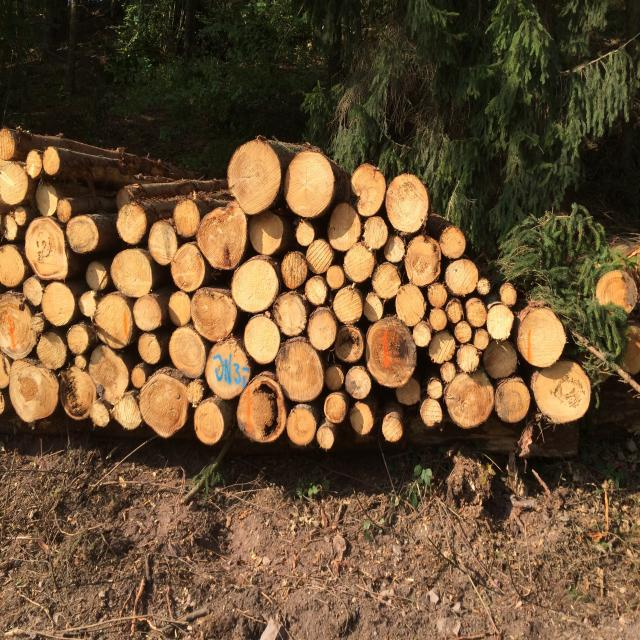wood-log: (225, 143, 281, 216), (364, 316, 416, 387), (532, 362, 590, 425), (196, 205, 249, 272), (274, 337, 324, 402), (284, 154, 334, 219), (139, 374, 189, 439), (205, 334, 253, 399), (6, 358, 54, 421), (516, 309, 566, 369), (23, 218, 68, 281), (385, 174, 430, 236), (445, 371, 493, 428), (0, 294, 40, 362), (231, 258, 280, 313), (191, 286, 239, 340), (235, 384, 278, 444), (94, 292, 135, 348), (90, 343, 131, 398), (110, 249, 154, 299), (168, 326, 206, 378), (598, 269, 640, 315), (170, 244, 208, 294), (246, 313, 284, 363), (405, 235, 442, 285), (352, 163, 386, 216), (328, 202, 364, 251), (250, 210, 286, 254), (494, 377, 529, 422), (273, 292, 308, 336), (42, 284, 77, 327), (482, 339, 518, 379), (195, 398, 226, 444), (149, 221, 180, 266), (394, 283, 427, 325), (618, 322, 640, 384), (118, 202, 150, 244), (343, 243, 375, 284), (0, 160, 29, 205), (307, 308, 338, 350), (38, 330, 69, 371), (288, 405, 319, 446), (446, 260, 480, 297), (67, 216, 99, 254), (132, 294, 164, 331), (334, 287, 365, 325), (0, 245, 27, 288), (372, 263, 404, 299), (486, 303, 516, 340), (172, 199, 200, 238), (114, 392, 142, 430), (280, 252, 307, 291), (344, 366, 372, 402), (306, 238, 334, 274), (430, 332, 459, 366), (33, 182, 58, 219), (364, 218, 390, 252), (334, 335, 363, 365), (442, 228, 467, 260), (350, 402, 373, 436), (398, 376, 424, 406), (306, 274, 330, 306), (138, 333, 162, 365), (66, 322, 89, 354), (326, 392, 349, 424), (169, 292, 190, 326), (420, 398, 444, 427), (23, 276, 44, 308), (456, 345, 480, 373), (465, 297, 486, 328), (383, 234, 406, 262), (88, 261, 109, 291), (91, 398, 111, 428), (0, 126, 16, 162), (364, 292, 383, 322), (383, 412, 402, 441), (428, 281, 450, 306), (80, 291, 98, 321), (326, 364, 345, 392), (413, 320, 432, 346), (132, 361, 150, 388), (327, 264, 345, 290), (296, 222, 314, 248), (499, 282, 518, 306), (44, 148, 60, 176), (456, 319, 474, 343), (2, 214, 16, 244), (446, 300, 462, 324), (319, 424, 334, 449), (429, 308, 446, 330), (0, 352, 10, 389), (474, 330, 491, 350), (58, 199, 72, 222), (442, 361, 458, 381), (428, 378, 443, 398), (478, 278, 492, 296), (0, 388, 7, 414)
